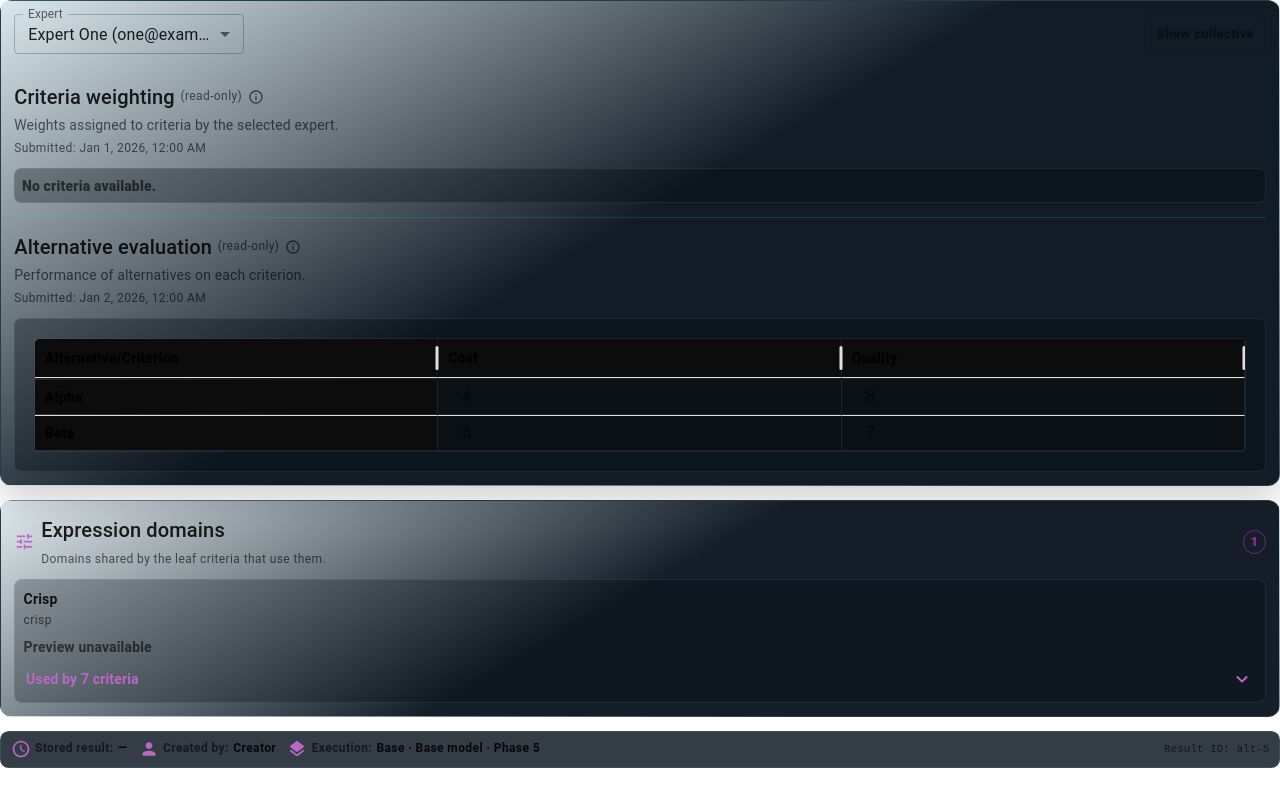
Test: EvaluationsView › shows all used criteria and scrolls the expanded list only above five items
The image size is (1280, 800).
Click the button "Used by 7 criteria" at (53, 679), box [24,664,1256,694]
(page scrolled)
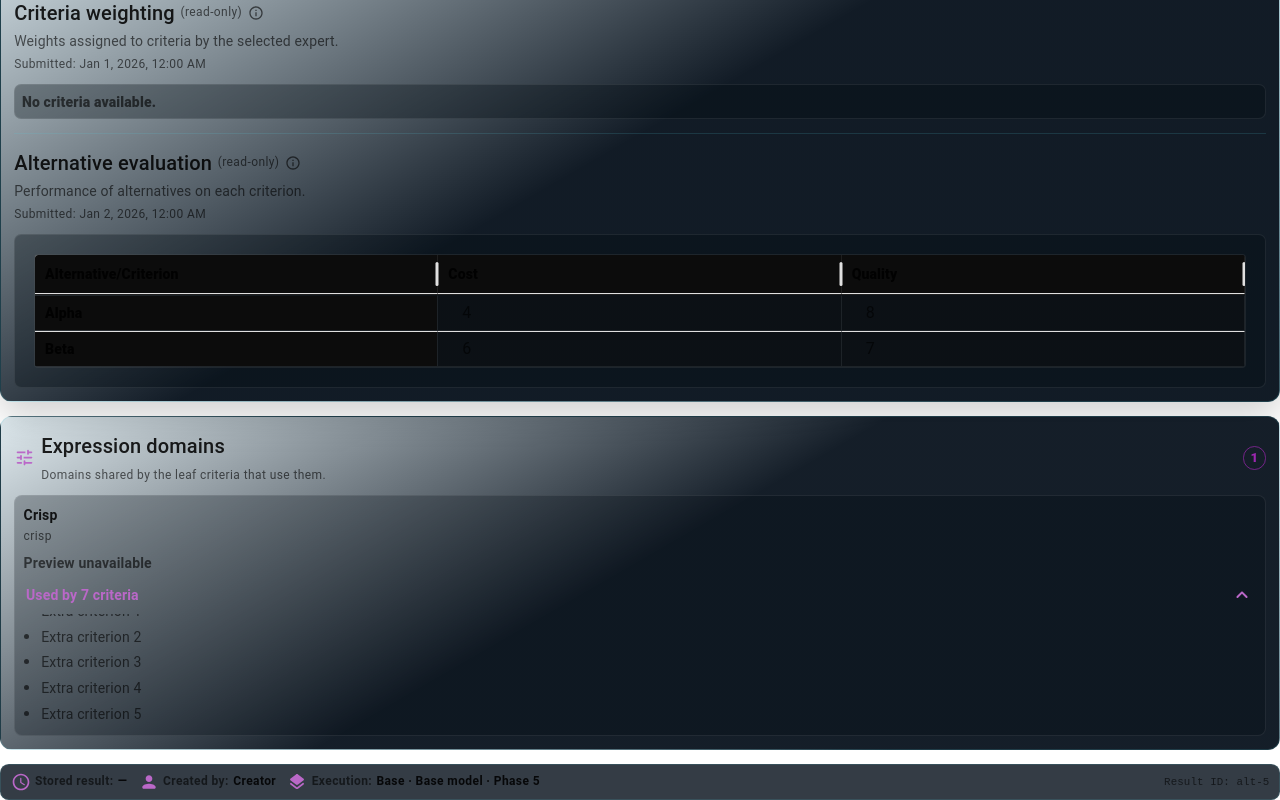
Check: the button "Used by 7 criteria" is expanded, box [24,580,1256,610]
Check: the text "Extra criterion 5" is shown, box [41,706,142,722]
